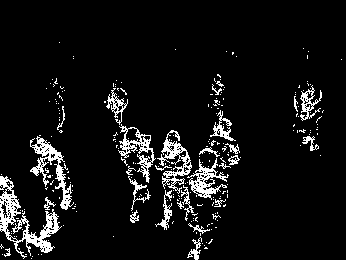person: (25, 137, 77, 239), (182, 147, 227, 259), (155, 129, 194, 231), (114, 124, 153, 219), (292, 80, 325, 155), (205, 118, 242, 170), (104, 79, 128, 125)
